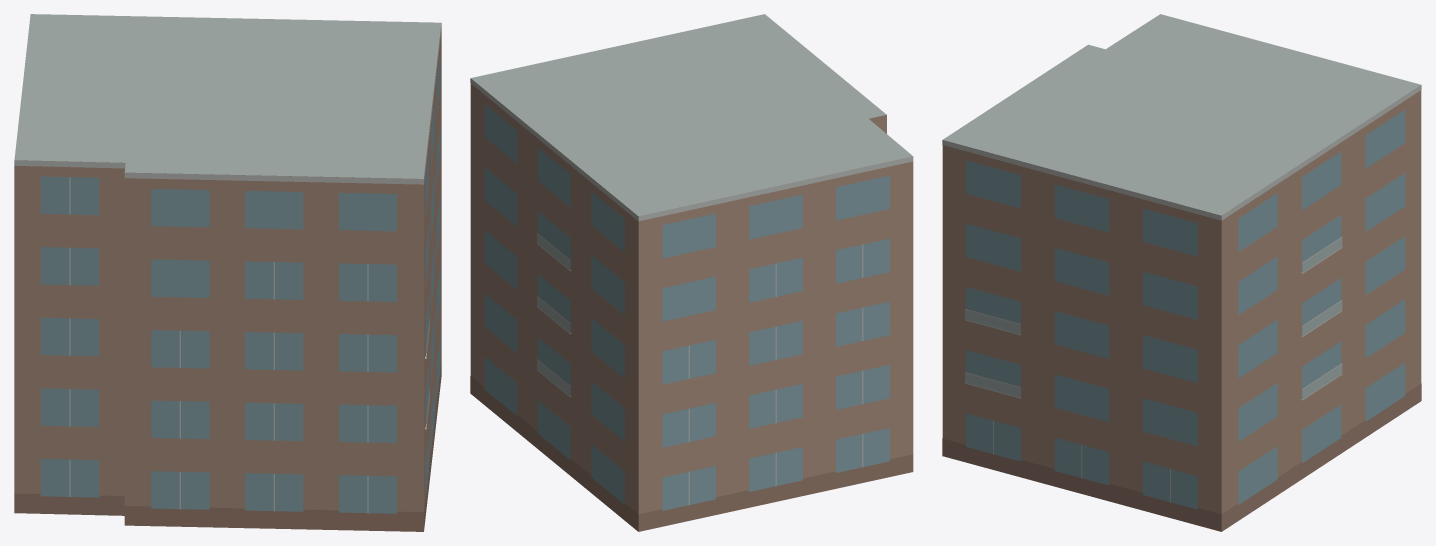
File: survey-upis-32950351.glb
3 views of the same model, side by side, from view 1: azimuth 30°, elevation 25°; view 2: azimuth 150°, elevation 25°; view 3: azimuth 270°, elevation 25° (orthographic). The views are drawn at different scales.
Visible parts, largest first — view 1: survey-upis-32950351.tmp; view 2: survey-upis-32950351.tmp; view 3: survey-upis-32950351.tmp.
Boxes of the visible parts, x1=… form: survey-upis-32950351.tmp: x1=14, y1=14, x2=441, y2=531; survey-upis-32950351.tmp: x1=470, y1=14, x2=913, y2=531; survey-upis-32950351.tmp: x1=942, y1=14, x2=1421, y2=531.
Bounding box in the file's own units: 20.86 × 15.25 × 20.94.
